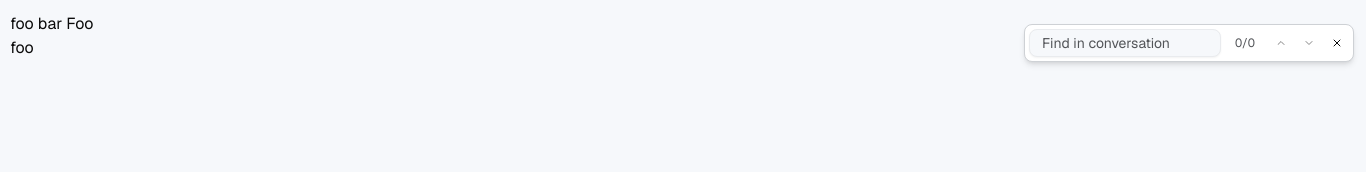
Test: ConversationFind › opens on Ctrl+F and shows a correct counter for a matching query
In the field with placeholder "Find in conversation": (1125, 43) left=1029, top=29, right=1221, bottom=57, type "bar"
Wait 150 ms
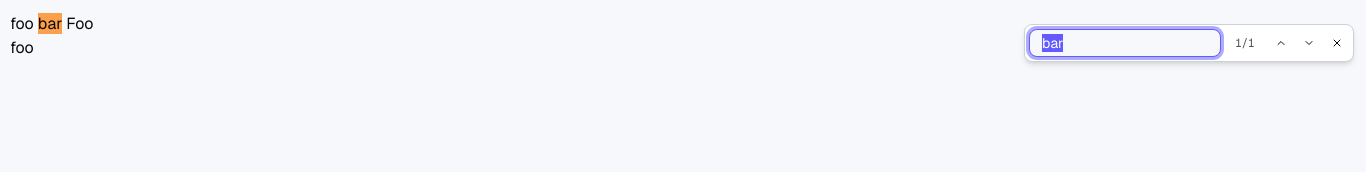
expect the text "1/1" is shown: met, box left=1235, top=35, right=1255, bottom=51
